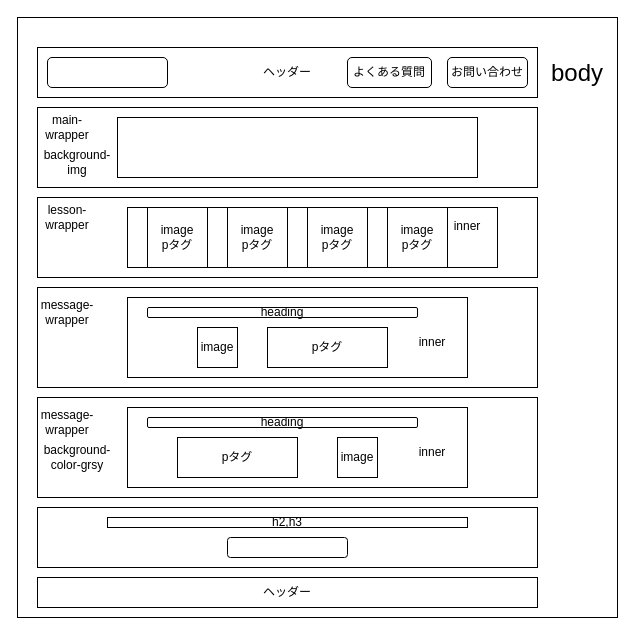
The diagram is 635 pixels wide and 635 high, and some of its shapes have lost their labels. Here are the shapes that lost their labels. From the top down, the centre of each, then its label:
At (x=107, y=72): "ロゴ画像".
At (x=297, y=147): "inner width:1170px margin:0 auto".
At (x=287, y=547): "button".
